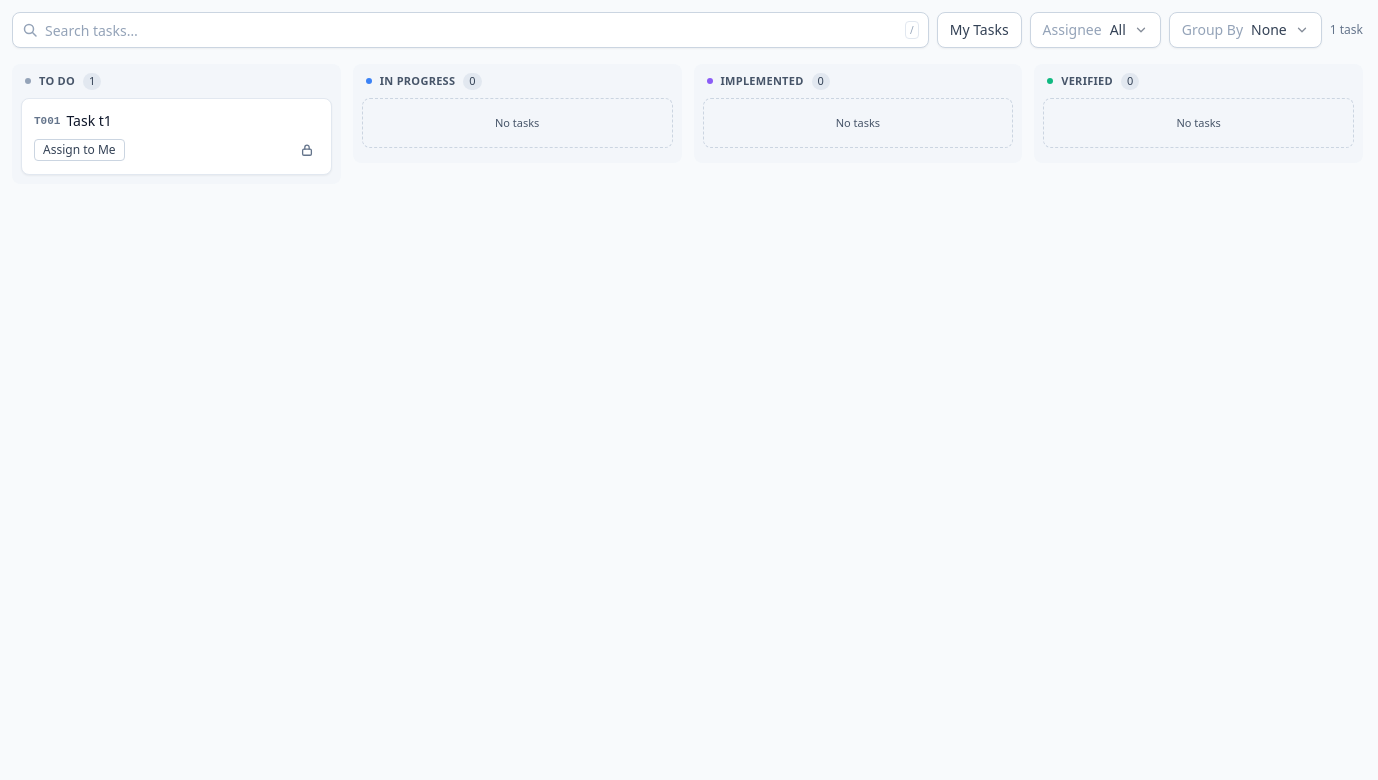
Test case: TaskBoard assignment › offers a member a one-click claim instead of a picker holding only themselves
Expected: the button "Task t1" is shown, [66, 110, 319, 130]
Click the button "Assign to Me" at (79, 150), box [34, 139, 124, 161]
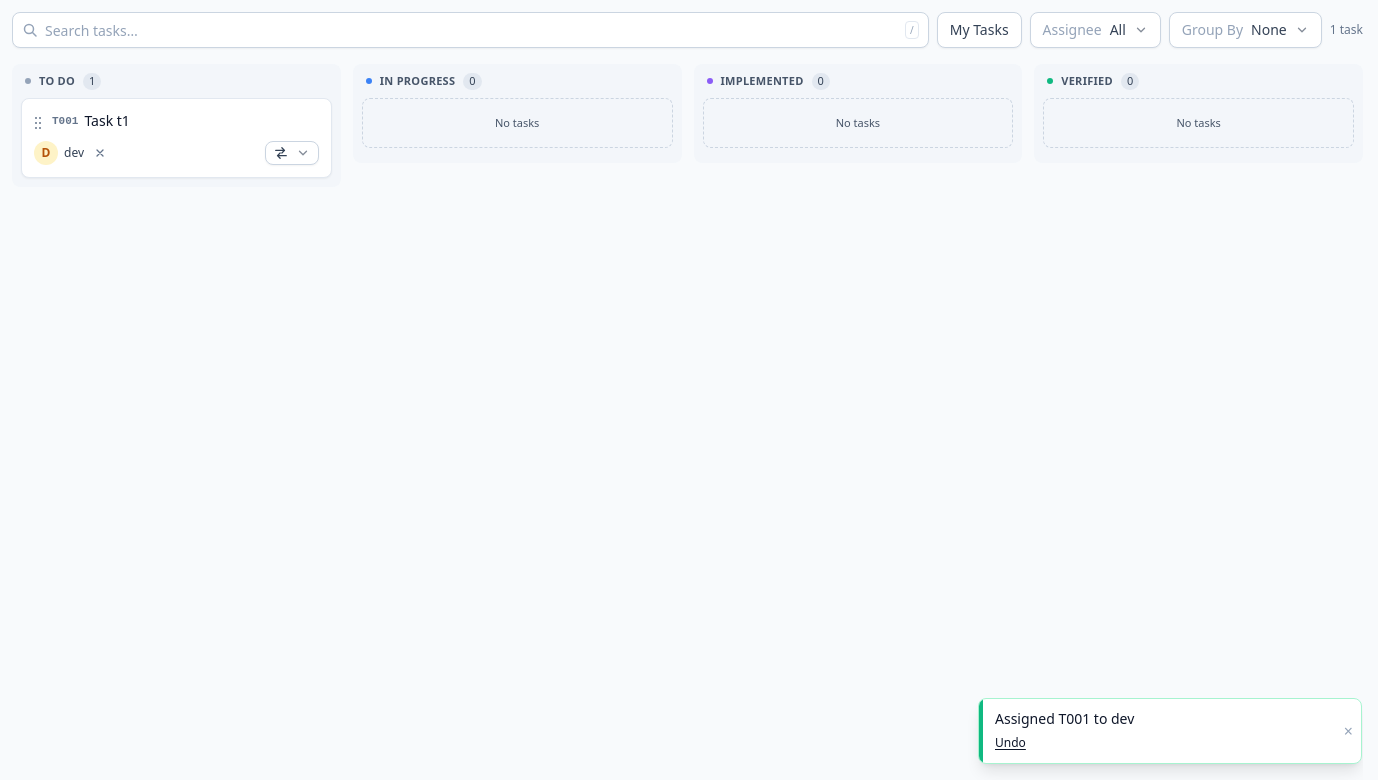
Now the button named "Unassign me from T001" is shown, box [88, 140, 112, 164]
